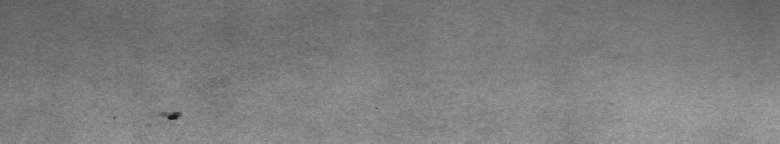fi: (162, 108, 184, 128)
